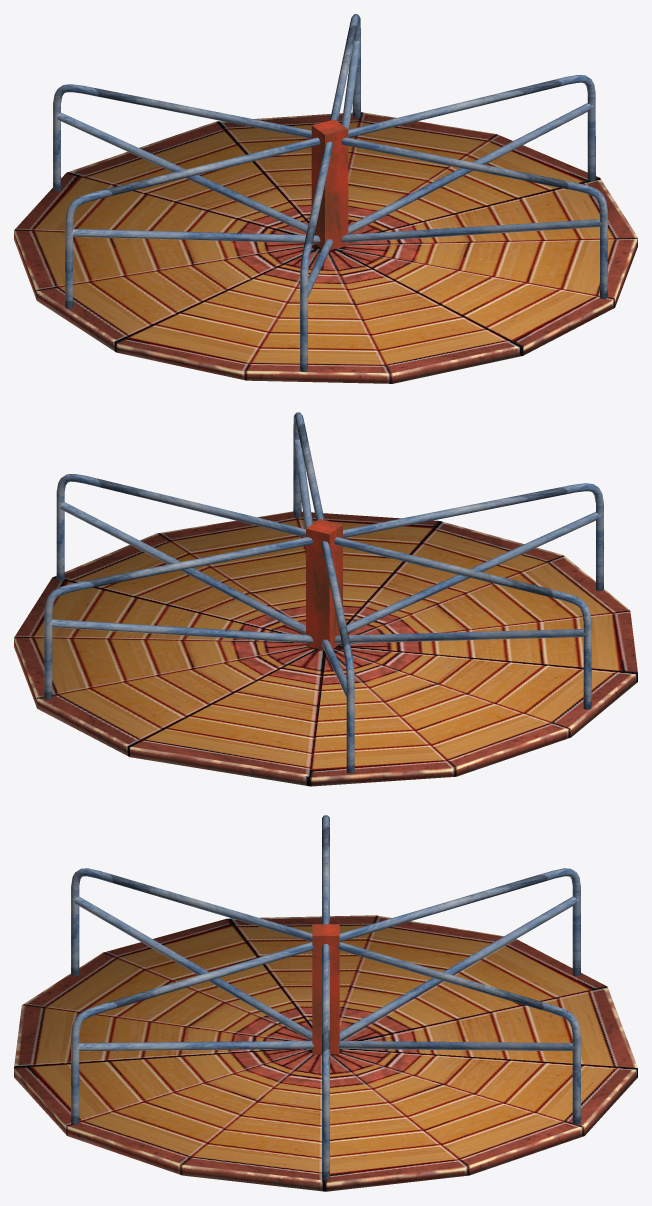
The model's file is Model_GoAround_02.fbx.
3 views of the same model, one above another, from view 1: azimuth 30°, elevation 25°; view 2: azimuth 150°, elevation 25°; view 3: azimuth 270°, elevation 25° (orthographic).
Parts seen in each view (by area): view 1: GoAround2; view 2: GoAround2; view 3: GoAround2.
Part boxes in pixels (left/top/right/bottom): GoAround2: left=14, top=14, right=637, bottom=383; GoAround2: left=14, top=412, right=637, bottom=786; GoAround2: left=14, top=815, right=637, bottom=1191.
Size of the model in its own units: 451 by 112 by 446.
